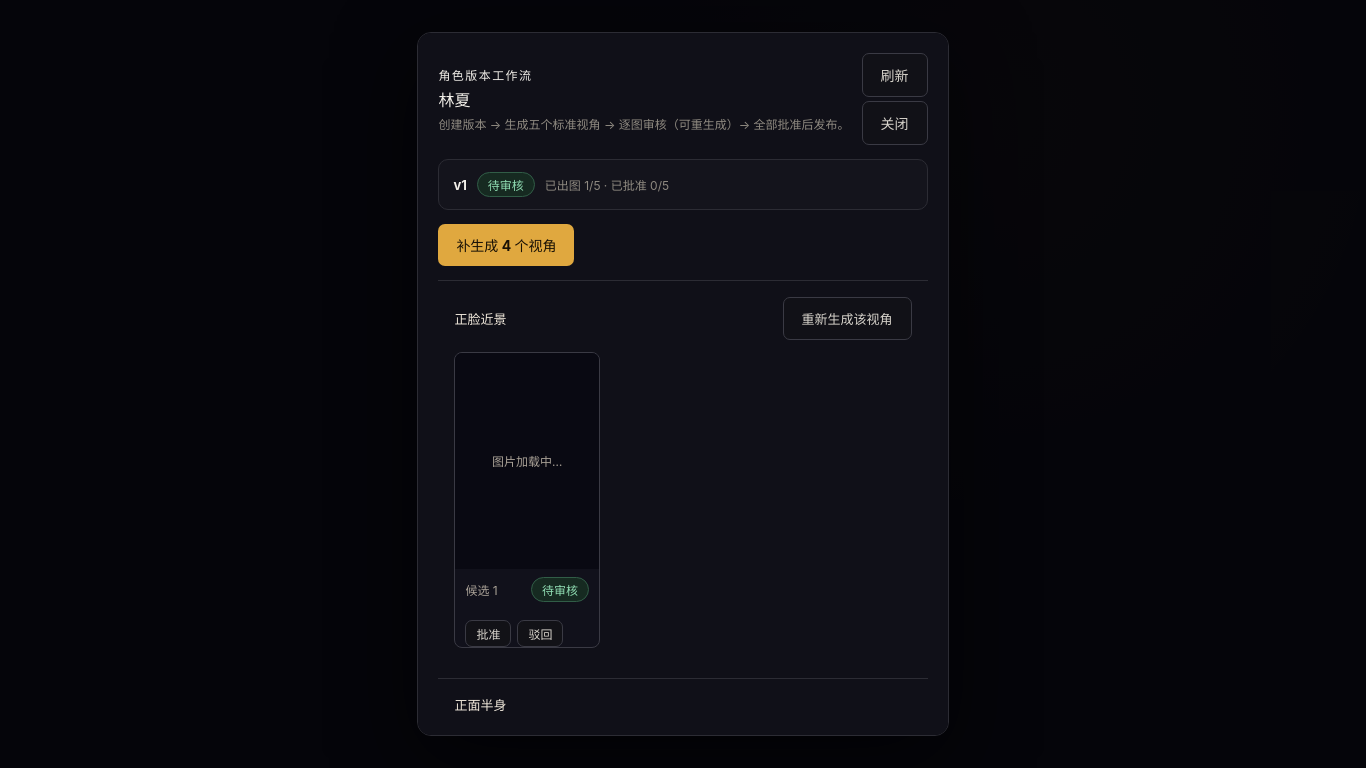
CharacterVersionDialog › 驳回候选携带驳回裁决
Click the button "驳回": click(540, 633) left=517, top=620, right=563, bottom=647
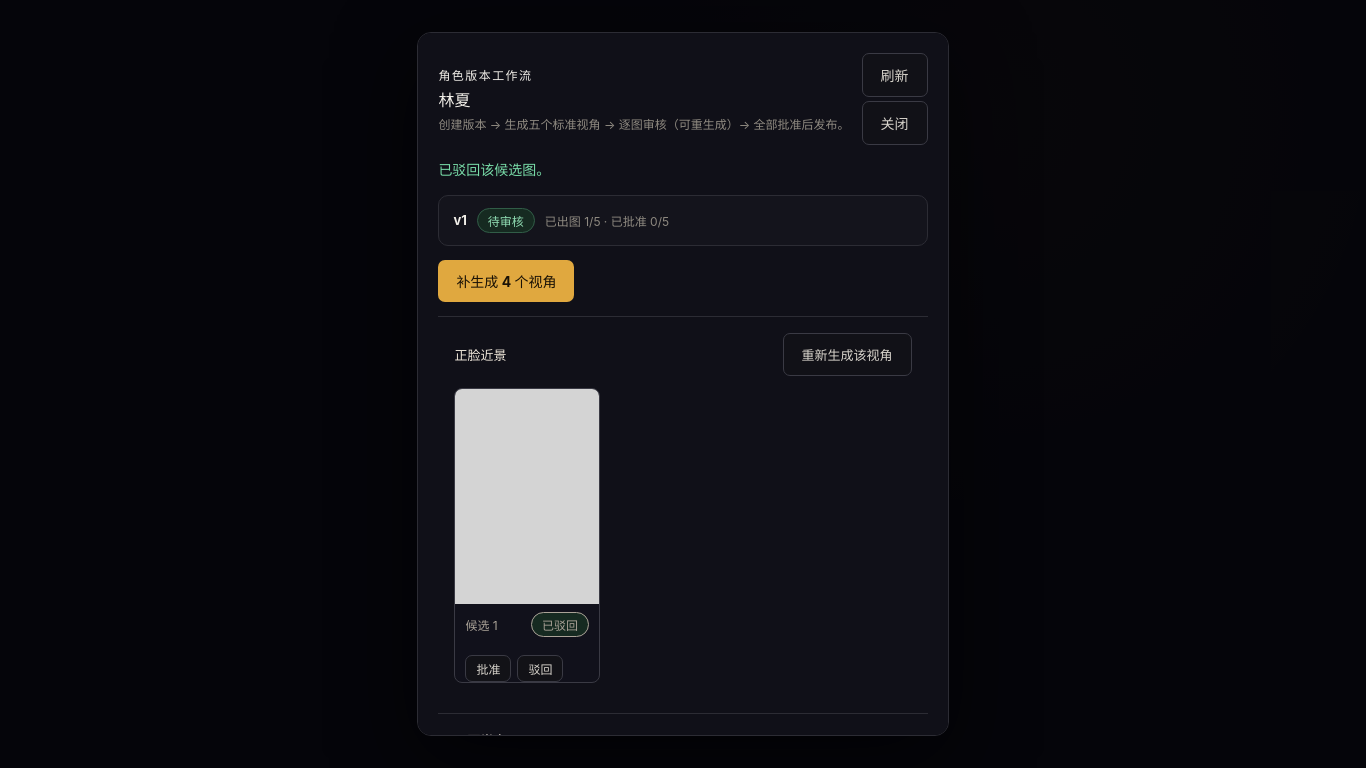
Check: the text "已驳回" is shown, box left=531, top=612, right=589, bottom=637
